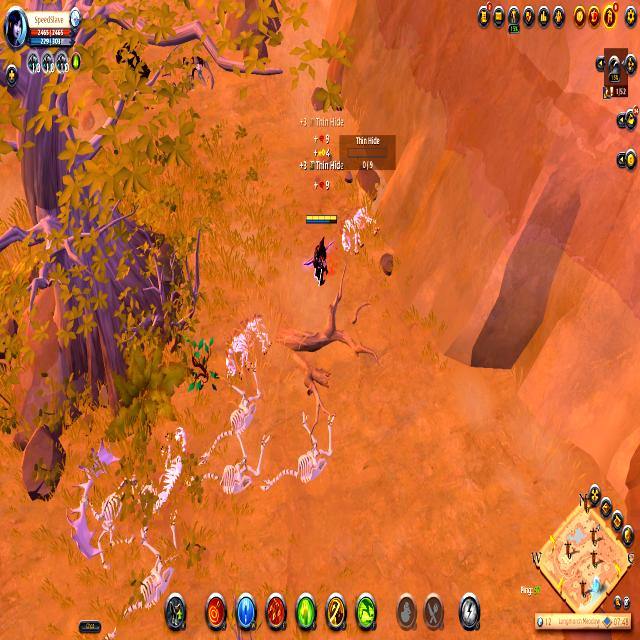ore: (181, 53, 216, 96)
red: (304, 210, 336, 288)
